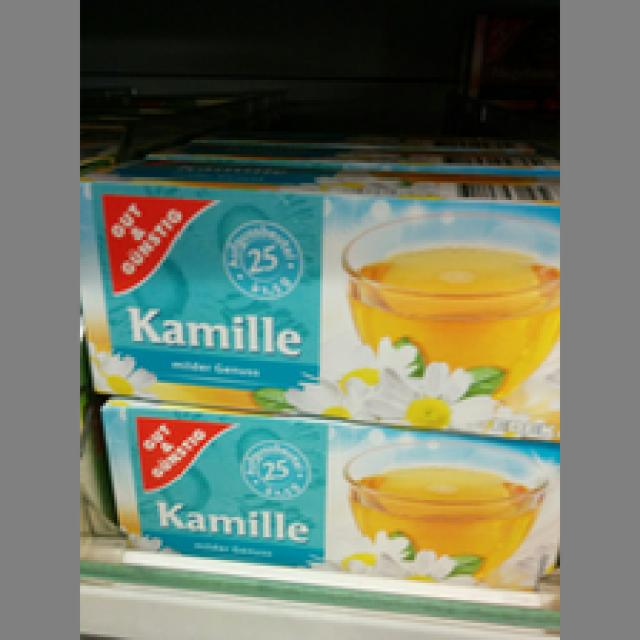groceries: (77, 154, 554, 440), (94, 397, 557, 589)
